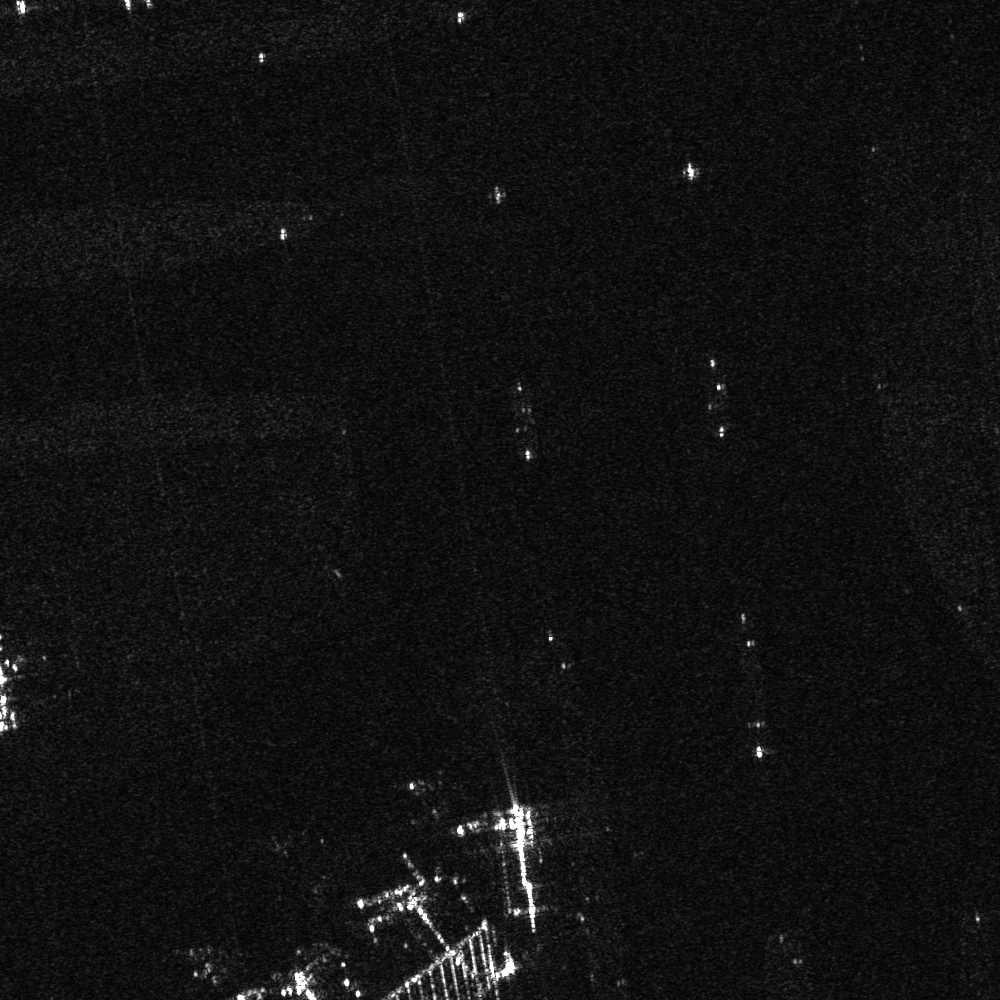A220: (408, 778, 461, 822)
